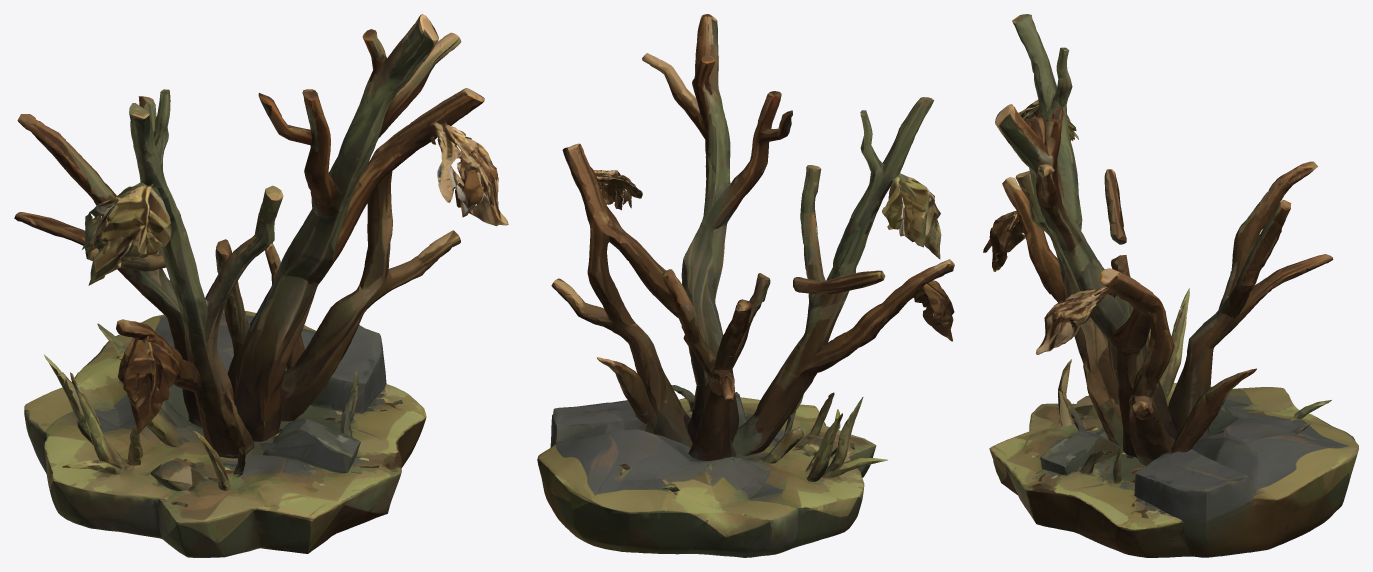
The model's file is bush_twig_full.glb.
3 views of the same model, side by side, from view 1: azimuth 30°, elevation 25°; view 2: azimuth 150°, elevation 25°; view 3: azimuth 270°, elevation 25° (orthographic). The views are drawn at different scales.
Visible parts, largest first — view 1: bush_twig_full; view 2: bush_twig_full; view 3: bush_twig_full.
Part boxes in pixels (left/top/right/bottom): bush_twig_full: left=14, top=14, right=508, bottom=557; bush_twig_full: left=537, top=14, right=954, bottom=557; bush_twig_full: left=983, top=14, right=1358, bottom=557.
Size of the model in its own units: 0.8923 by 1 by 0.7956.
Materials: 1 (1 with a texture image).
